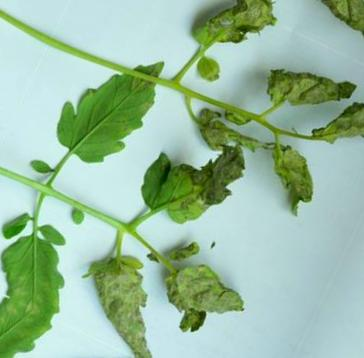Tomato mold leaf: (38, 27, 174, 182), (130, 114, 258, 243), (61, 239, 191, 358), (157, 245, 268, 339), (0, 222, 91, 322)
